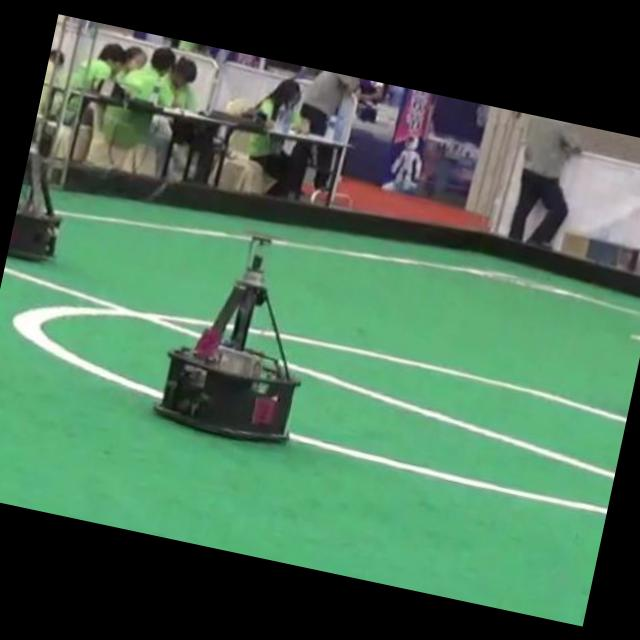robot: (155, 235, 299, 439), (7, 151, 58, 258)
